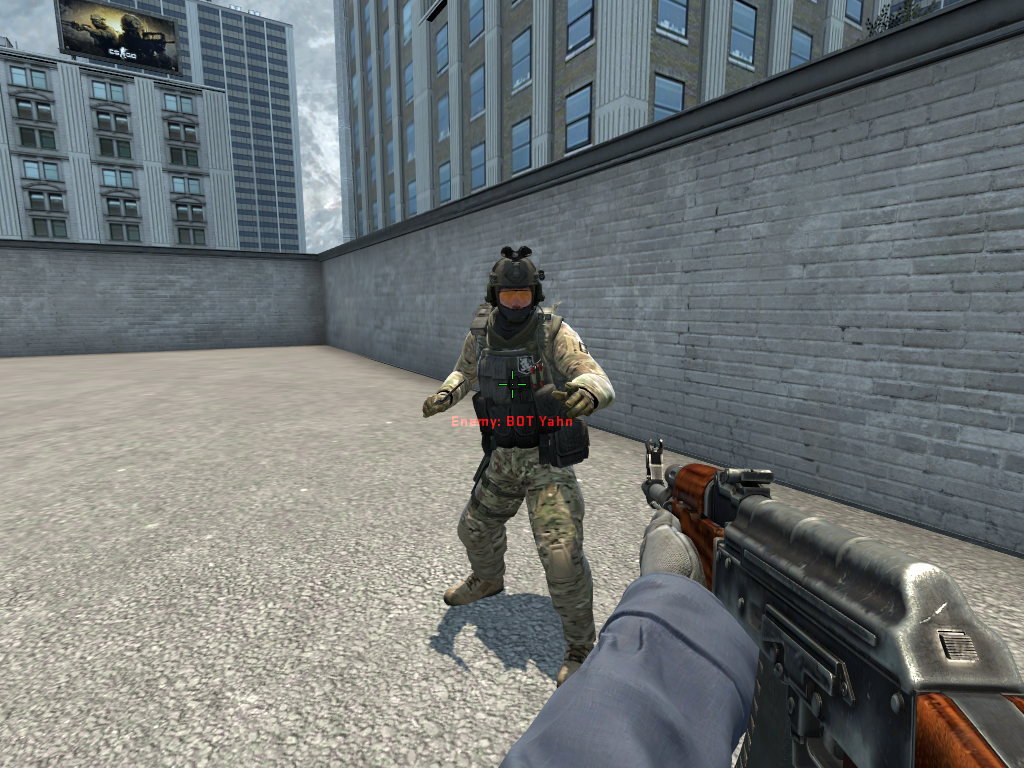ct head: (483, 243, 548, 326)
